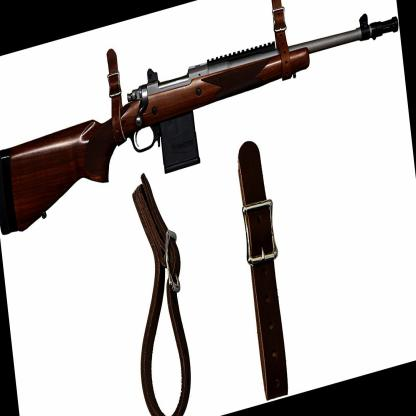rifle: (0, 0, 409, 231)
